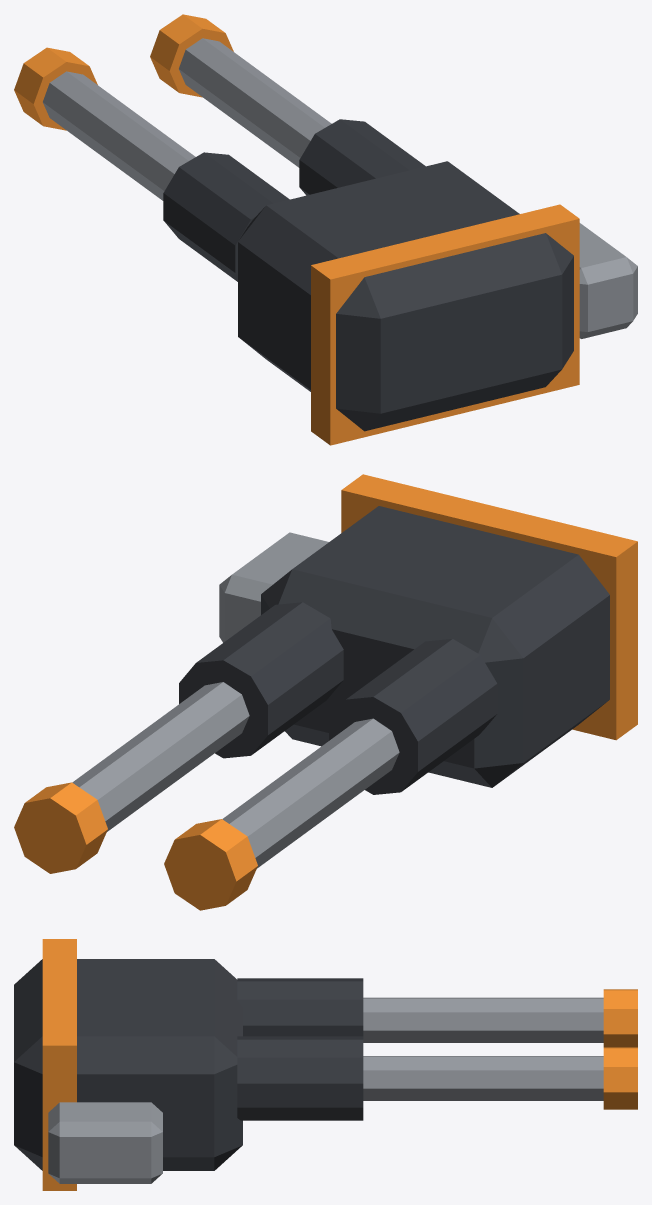
File: twin_machine_gun.glb
3 renders of one model, top to bottom at view 1: azimuth 30°, elevation 25°; view 2: azimuth 150°, elevation 25°; view 3: azimuth 270°, elevation 25°, orthographic. The views are drawn at different scales.
Parts seen in each view (by area): view 1: twin_machine_gun; view 2: twin_machine_gun; view 3: twin_machine_gun.
Boxes of the visible parts, left/top/right/bottom form: twin_machine_gun: left=14, top=14, right=637, bottom=445; twin_machine_gun: left=14, top=474, right=637, bottom=910; twin_machine_gun: left=14, top=939, right=637, bottom=1190.
Bounding box in the file's own units: 0.56 × 0.28 × 1.09.
